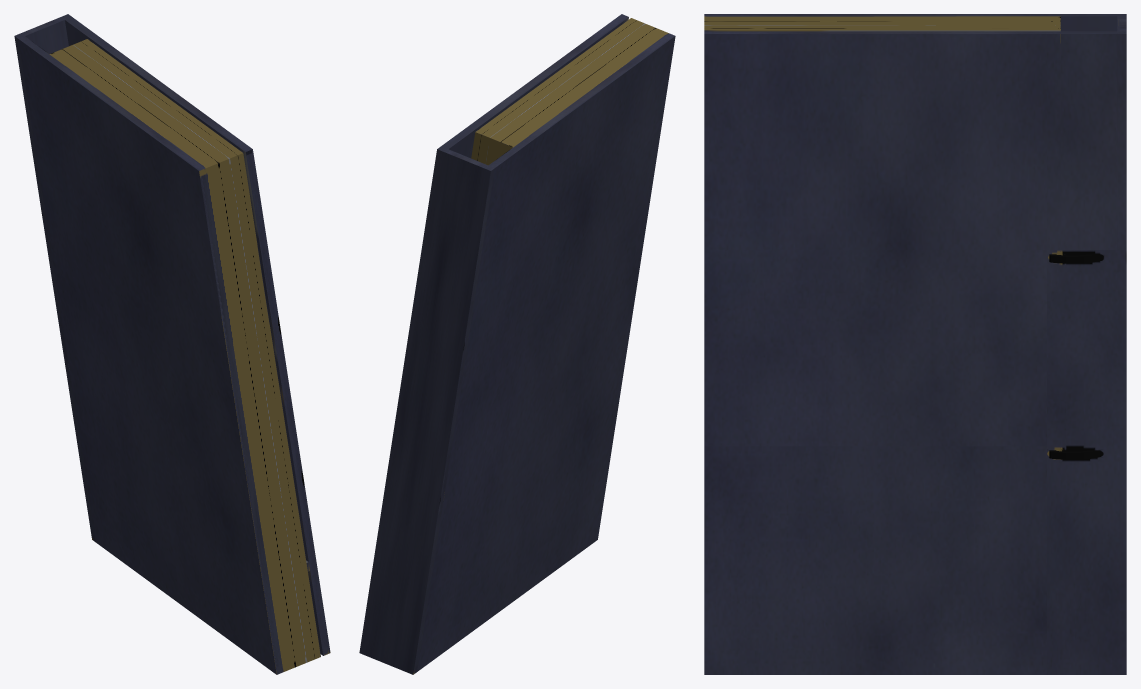
Rendered from DocumentFolder.fbx.
3 views of the same model, side by side, from view 1: azimuth 30°, elevation 25°; view 2: azimuth 150°, elevation 25°; view 3: azimuth 270°, elevation 25° (orthographic). The views are drawn at different scales.
Parts seen in each view (by area): view 1: Export document folder; view 2: Export document folder; view 3: Export document folder.
Boxes of the visible parts, <box> form: Export document folder: <box>14,14,330,674</box>; Export document folder: <box>359,14,675,674</box>; Export document folder: <box>704,14,1126,674</box>.
Size of the model in its own units: 7.74 by 29.87 by 18.81.
